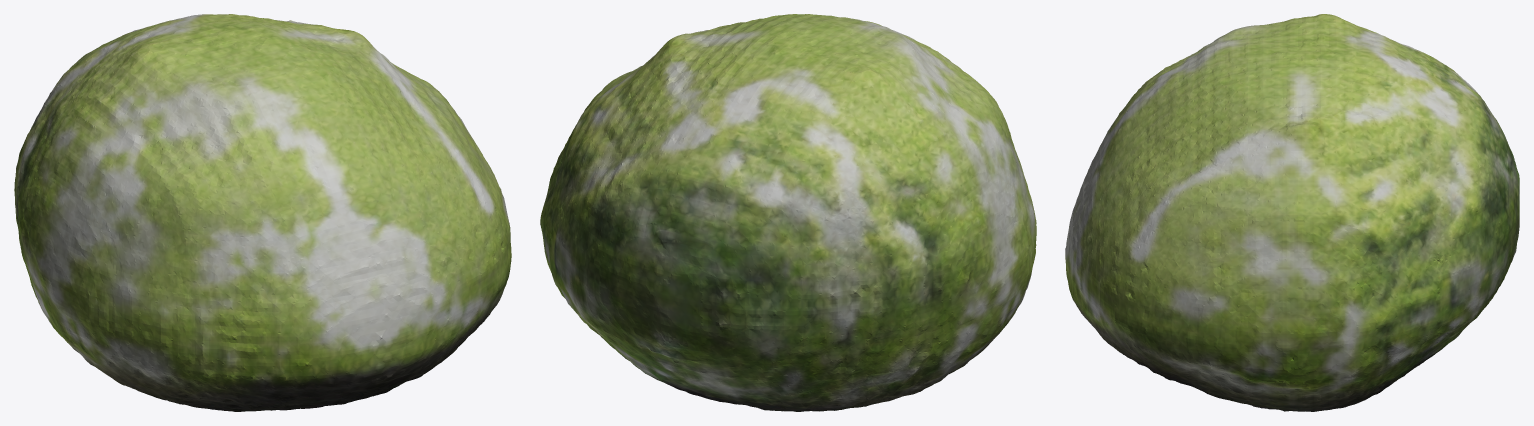
Rendered from boulder1.glb.
The picture shows the model from 3 angles, left to right: view 1: azimuth 30°, elevation 25°; view 2: azimuth 150°, elevation 25°; view 3: azimuth 270°, elevation 25°; orthographic projection. The views are drawn at different scales.
Visible parts, largest first — view 1: world; view 2: world; view 3: world.
Part boxes in pixels (x1,y1,x2,y2): world: (14, 14, 511, 411); world: (540, 14, 1036, 411); world: (1065, 14, 1519, 411).
Size of the model in its own units: 1.94 by 1.42 by 1.94.
